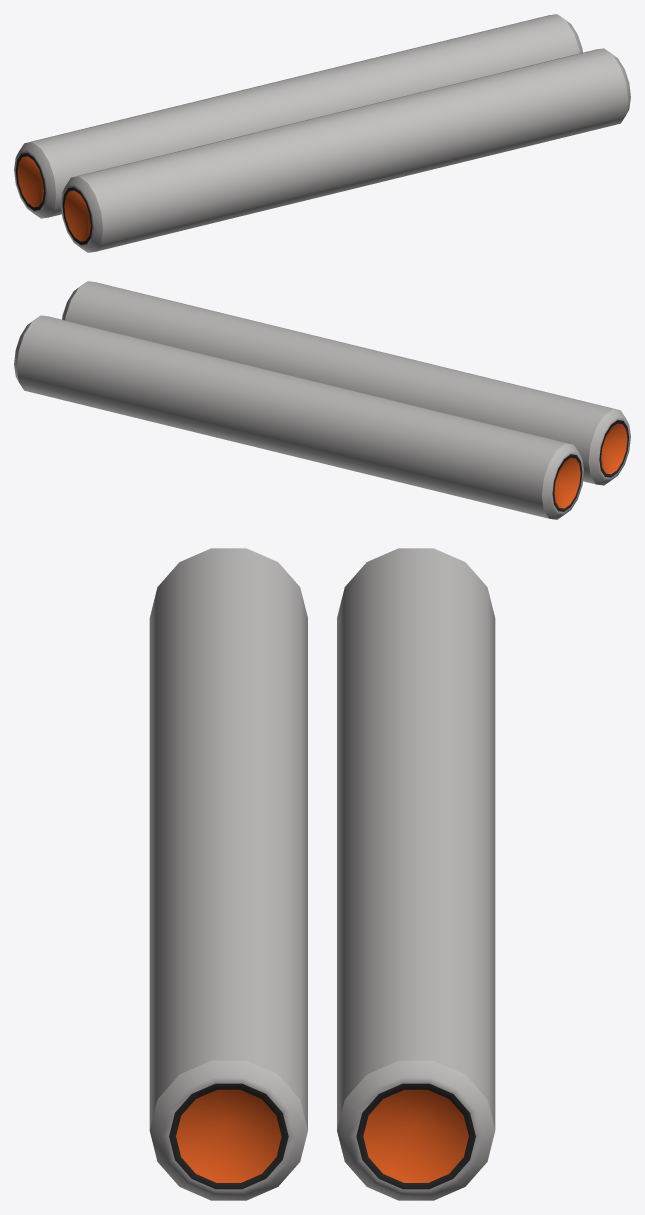
Rendered from Car_06_Turbine.fbx.
The picture shows the model from 3 angles, top to bottom: view 1: azimuth 30°, elevation 25°; view 2: azimuth 150°, elevation 25°; view 3: azimuth 270°, elevation 25°; orthographic projection. The views are drawn at different scales.
Visible parts, largest first — view 1: Car_06_Turbine; view 2: Car_06_Turbine; view 3: Car_06_Turbine.
Boxes of the visible parts, <box> form: Car_06_Turbine: <box>14,14,630,252</box>; Car_06_Turbine: <box>14,281,630,519</box>; Car_06_Turbine: <box>149,548,495,1200</box>.
Bounding box in the file's own units: 216 × 60.13 × 26.86.
